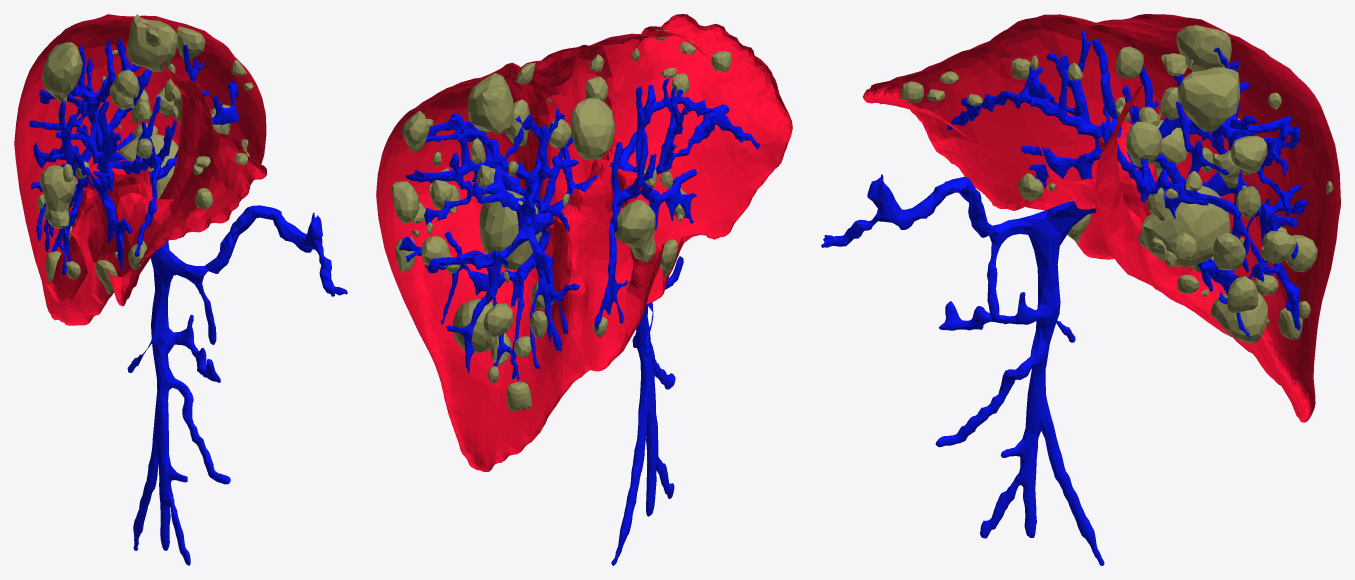
File: Patient3.glb
3 views of the same model, side by side, from view 1: azimuth 30°, elevation 25°; view 2: azimuth 150°, elevation 25°; view 3: azimuth 270°, elevation 25° (orthographic). The views are drawn at different scales.
Visible parts, largest first — view 1: liver.001, portalvein, livertumors; view 2: liver.001, portalvein, livertumors; view 3: liver.001, portalvein, livertumors.
Part boxes in pixels (x1,y1,x2,y2): liver.001: [14, 14, 266, 325]; portalvein: [29, 38, 347, 565]; livertumors: [37, 14, 253, 294]; liver.001: [376, 14, 792, 471]; portalvein: [399, 78, 760, 565]; livertumors: [391, 30, 731, 410]; liver.001: [863, 14, 1340, 422]; portalvein: [821, 30, 1308, 565]; livertumors: [901, 25, 1333, 343].
Size of the model in its own units: 26.26 by 50.65 by 43.59.
